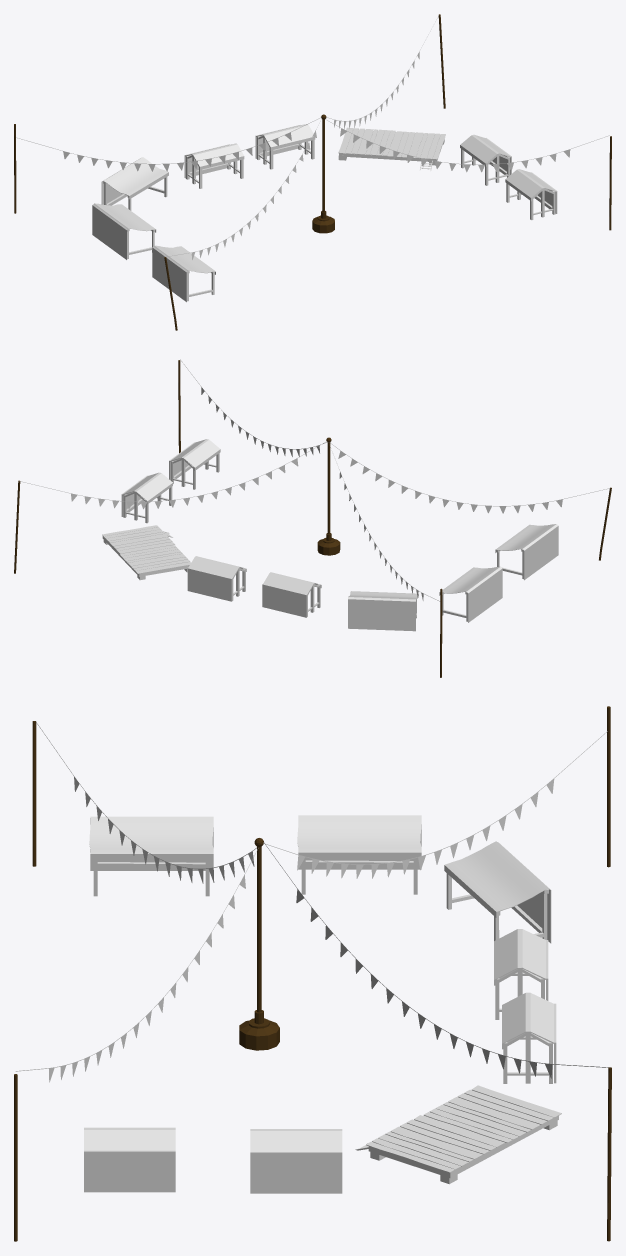
File: mela3.fbx
3 views of the same model, one above another, from view 1: azimuth 30°, elevation 25°; view 2: azimuth 150°, elevation 25°; view 3: azimuth 270°, elevation 25° (orthographic). The views are drawn at different scales.
Parts seen in each view (by area): view 1: Cube.001, Cube.007, Cube.003, Cube.004, Cube.006, Cube.008, Cube.005, Cube, Plane.007, Plane.005, Cylinder, Plane.006; view 2: Cube.001, Cube.004, Cube.007, Cube.003, Cube.006, Cube.008, Cube.005, Cube, Plane, Plane.006, Cylinder, Plane.005; view 3: Cube.001, Cube.003, Cube.007, Cube.005, Cube, Cube.004, Cube.006, Cube.008, Cylinder, Plane.007, Plane, Plane.005 (+3 smaller).
Boxes of the visible parts, left/top/right/bottom form: Cube.001: left=338, top=127, right=445, bottom=165; Cube.007: left=92, top=203, right=156, bottom=259; Cube.003: left=152, top=245, right=215, bottom=302; Cube.004: left=101, top=157, right=168, bottom=210; Cube.006: left=255, top=124, right=315, bottom=169; Cube.008: left=184, top=143, right=244, bottom=188; Cube.005: left=505, top=169, right=557, bottom=220; Cube: left=460, top=134, right=511, bottom=185; Plane.007: left=16, top=117, right=320, bottom=171; Plane.005: left=325, top=119, right=609, bottom=172; Cylinder: left=312, top=114, right=334, bottom=233; Plane.006: left=166, top=119, right=321, bottom=259; Cube.001: left=102, top=525, right=190, bottom=580; Cube.004: left=348, top=591, right=418, bottom=631; Cube.007: left=439, top=566, right=502, bottom=622; Cube.003: left=495, top=524, right=558, bottom=580; Cube.006: left=187, top=556, right=246, bottom=601; Cube.008: left=262, top=572, right=321, bottom=617; Cube.005: left=169, top=439, right=220, bottom=489; Cube: left=121, top=472, right=172, bottom=523; Plane: left=19, top=441, right=327, bottom=509; Plane.006: left=329, top=442, right=609, bottom=513; Cylinder: left=317, top=437, right=340, bottom=555; Plane.005: left=180, top=359, right=326, bottom=456; Cube.001: left=366, top=1085, right=561, bottom=1184; Cube.003: left=89, top=816, right=213, bottom=896; Cube.007: left=297, top=815, right=421, bottom=894; Cube.005: left=84, top=1127, right=175, bottom=1192; Cube: left=250, top=1129, right=342, bottom=1193; Cube.004: left=444, top=841, right=551, bottom=943; Cube.006: left=502, top=992, right=556, bottom=1083; Cube.008: left=494, top=929, right=548, bottom=1019; Cylinder: left=239, top=838, right=279, bottom=1050; Plane.007: left=264, top=731, right=607, bottom=878; Plane: left=263, top=842, right=610, bottom=1078; Plane.005: left=15, top=848, right=258, bottom=1082.
Size of the model in its own units: 8580 by 2199 by 5621.
